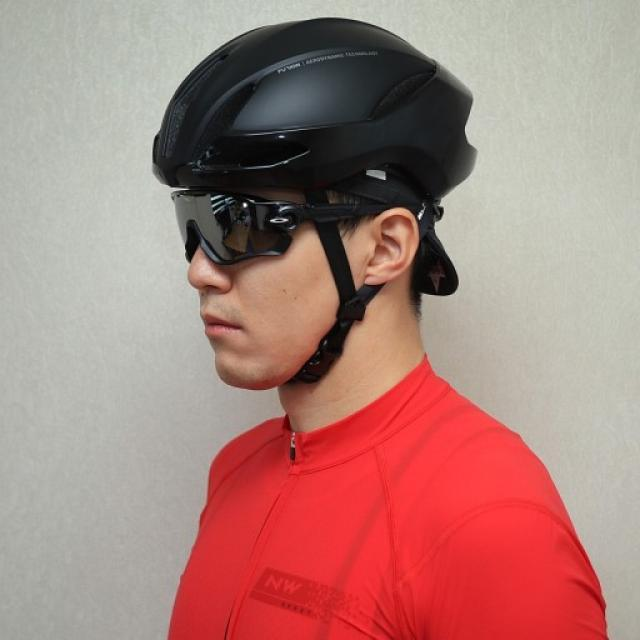Helmet: (132, 3, 488, 401)
